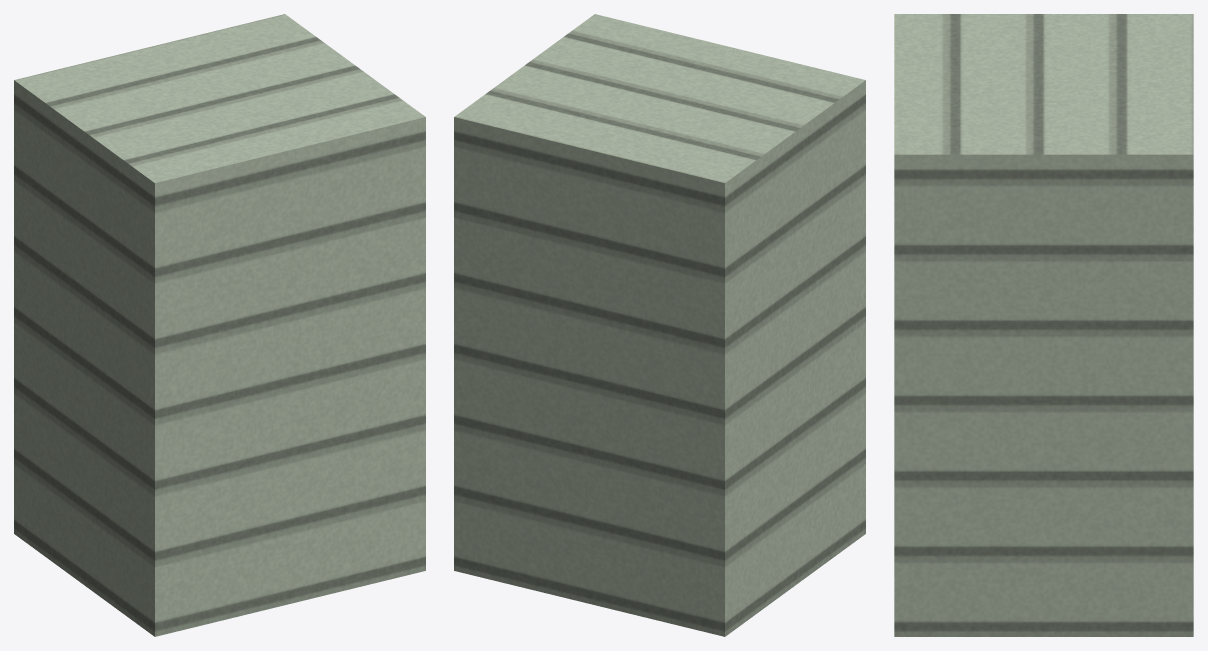
File: popcorn_machine.glb
3 views of the same model, side by side, from view 1: azimuth 30°, elevation 25°; view 2: azimuth 150°, elevation 25°; view 3: azimuth 270°, elevation 25° (orthographic). The views are drawn at different scales.
Parts seen in each view (by area): view 1: popcorn_machine-col; view 2: popcorn_machine-col; view 3: popcorn_machine-col.
Part boxes in pixels (<box>): popcorn_machine-col: <box>14,14,425,636</box>; popcorn_machine-col: <box>454,14,865,636</box>; popcorn_machine-col: <box>894,14,1193,636</box>.
Bounding box in the file's own units: 0.5 × 0.8 × 0.45.
1 material, 1 textured.
